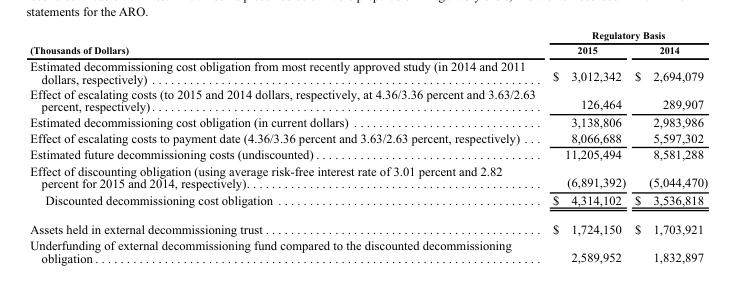table: (29, 28, 707, 264)
table column: (29, 28, 543, 264), (543, 28, 629, 264), (629, 28, 707, 264)
table column header: (29, 28, 707, 56)
table row: (29, 56, 707, 85), (29, 162, 707, 191), (29, 85, 707, 113), (29, 236, 707, 264), (29, 191, 707, 214), (29, 214, 707, 236), (29, 145, 707, 162), (29, 113, 707, 129), (29, 129, 707, 145), (29, 41, 707, 56), (29, 28, 707, 41)
table spanning cell: (29, 28, 543, 56), (543, 28, 707, 41)
